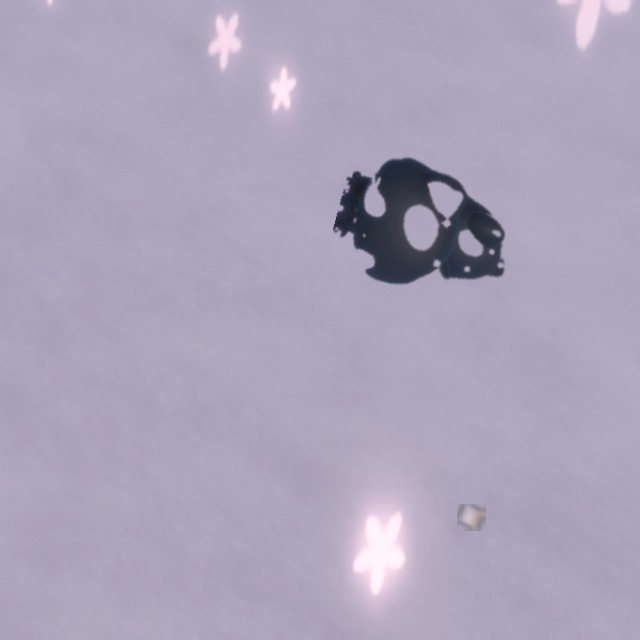urso_branco: (457, 504, 486, 531)
urso_preto: (319, 138, 540, 327)
